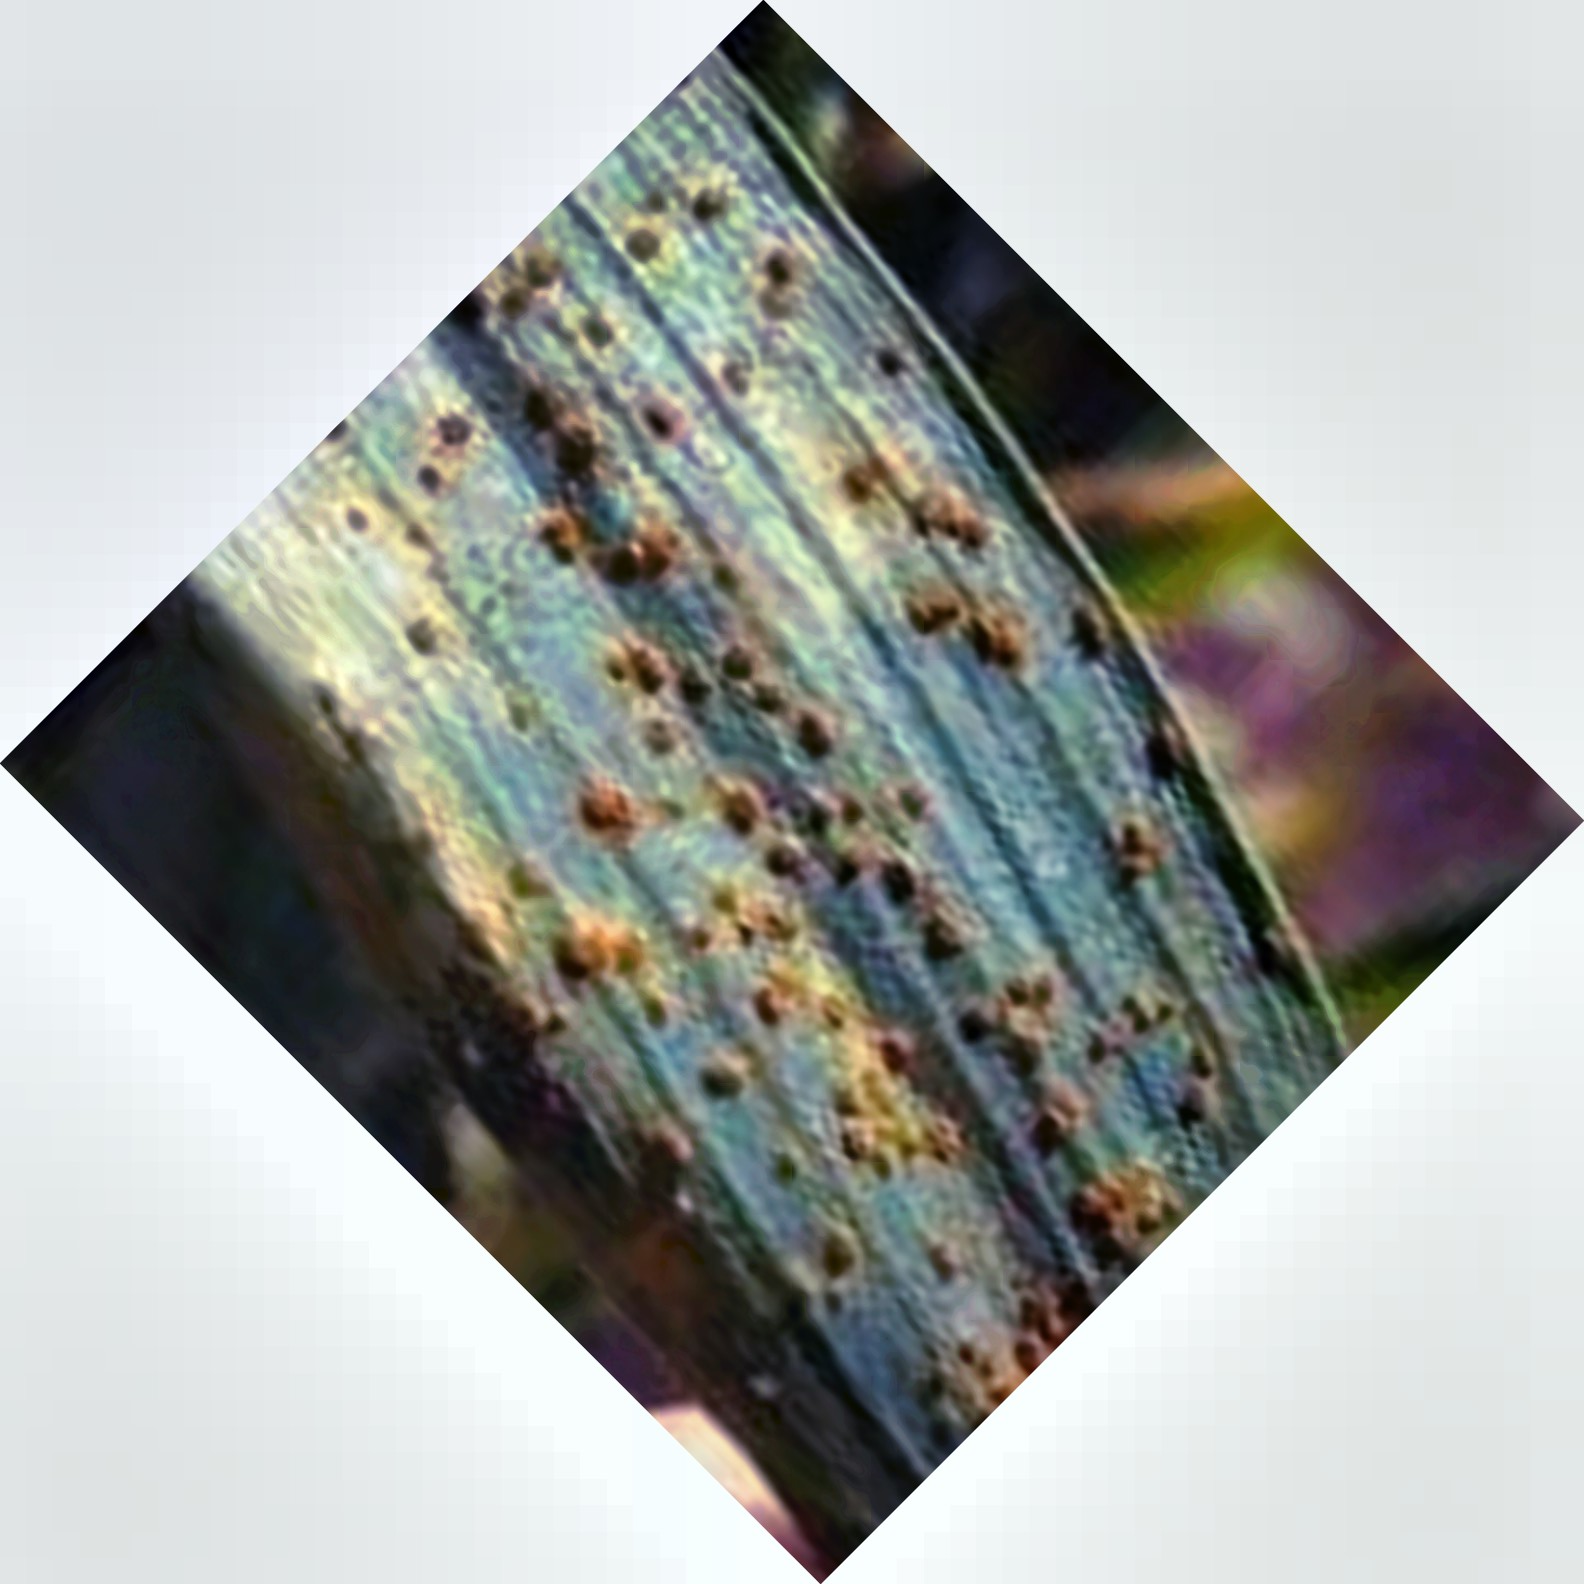Leaf Rust: (406, 366, 1168, 1214)
